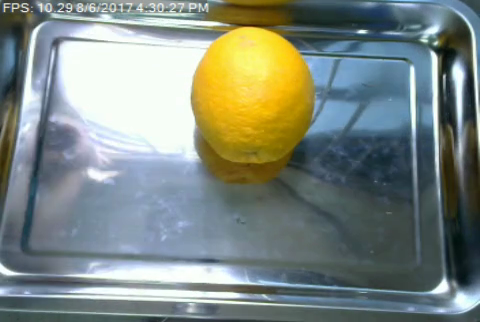Orange: (189, 26, 315, 163)
